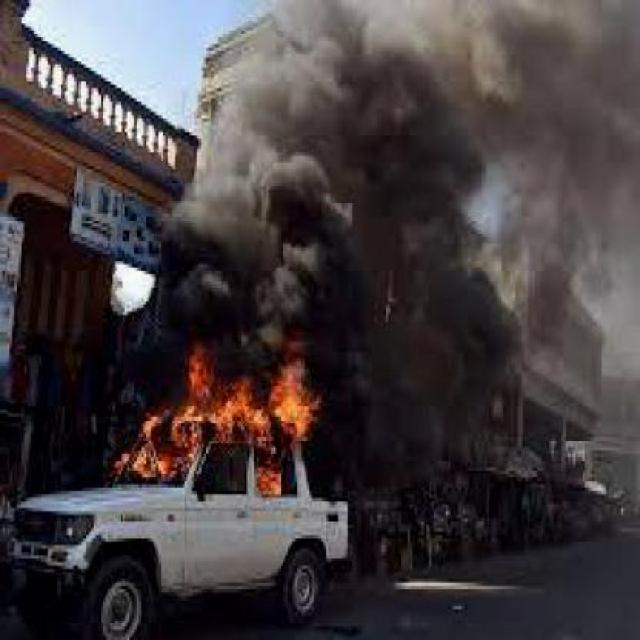Fire: (99, 324, 324, 504)
Smoke: (152, 0, 638, 331)
